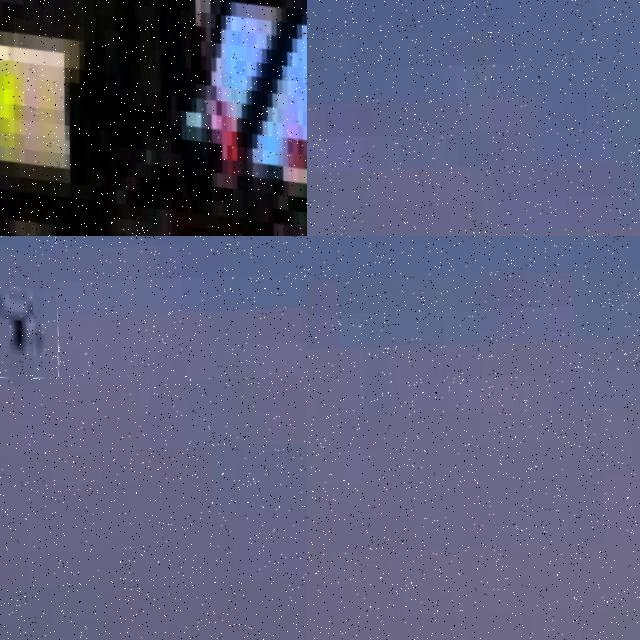0: (0, 236, 59, 379)
drone: (0, 0, 307, 236)
